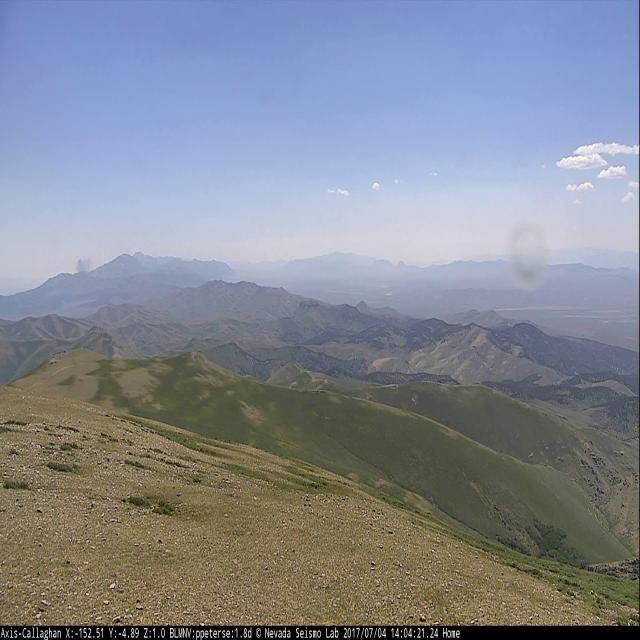smoke: (75, 252, 94, 273)
